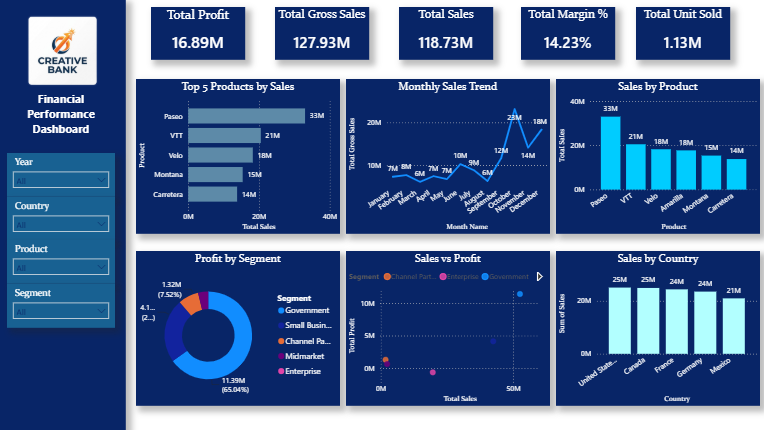

What the dashboard file says about the page in this screenshot:
{"tool":"powerbi","page":{"name":"Page 1","canvas":[1280,720],"ordinal":0},"visuals":[{"type":"textbox","box":[0,0,213.3,720],"z":0},{"type":"image","box":[41.4,22.9,131.4,125.7],"z":1},{"type":"cardVisual","title":"Total Profit","fields":{"Data":["Financial_Data.Total Profit"]},"box":[255,13.3,156.7,88.3],"z":2},{"type":"cardVisual","title":"Total Gross Sales","fields":{"Data":["Financial_Data.Total Gross Sales"]},"box":[461.7,13.3,156.7,88.3],"z":3},{"type":"cardVisual","title":"Total Sales","fields":{"Data":["Financial_Data.Total Sales"]},"box":[668.3,13.3,156.7,88.3],"z":4},{"type":"cardVisual","title":"Total Margin %","fields":{"Data":["Financial_Data.Profit Margin %"]},"box":[871.7,13.3,156.7,88.3],"z":5},{"type":"cardVisual","title":"Total Unit Sold","fields":{"Data":["Financial_Data.Total Units Sold"]},"box":[1063.3,13.3,156.7,88.3],"z":6},{"type":"barChart","title":"Top 5 Products by Sales","fields":{"Y":["Financial_Data.Total Sales"],"Category":["Financial_Data.Product"]},"box":[230,133.3,340,258.3],"z":7},{"type":"lineChart","title":"Monthly Sales Trend","fields":{"Y":["Financial_Data.Total Gross Sales"],"Category":["Financial_Data.Month Name"]},"box":[580,133.3,340,258.3],"z":8},{"type":"clusteredColumnChart","title":"Sales by Product","fields":{"Category":["Financial_Data.Product"],"Y":["Financial_Data.Total Sales"]},"box":[930,133.3,340,258.3],"z":9},{"type":"donutChart","title":"Profit by Segment","fields":{"Category":["Financial_Data.Segment"],"Y":["Financial_Data.Total Profit"]},"box":[230,420,340,258.3],"z":10},{"type":"scatterChart","title":"Sales vs Profit","fields":{"X":["Financial_Data.Total Sales"],"Y":["Financial_Data.Total Profit"],"Series":["Financial_Data.Segment"]},"box":[580,420,340,258.3],"z":11},{"type":"clusteredColumnChart","title":"Sales by Country","fields":{"Category":["Financial_Data.Country"],"Y":["Sum(Financial_Data.Sales)"]},"box":[930,420,340,258.3],"z":12},{"type":"slicer","fields":{"Values":["Financial_Data.Year"]},"box":[15.7,257.1,180,73.3],"z":13,"group":"g1"},{"type":"slicer","fields":{"Values":["Financial_Data.Country"]},"box":[15.7,330.4,180,73.3],"z":14,"group":"g1"},{"type":"slicer","fields":{"Values":["Financial_Data.Product"]},"box":[16.2,402.8,180,72.9],"z":15,"group":"g1"},{"type":"slicer","fields":{"Values":["Financial_Data.Segment"]},"box":[16.2,475.7,180,72.9],"z":16,"group":"g1"},{"type":"group","id":"g1","title":"Group 1","box":[15.7,257.1,180,291.4],"z":17},{"type":"textbox","box":[15.7,148.6,180,87.1],"z":18}]}

Visuals, with their boxes in screenshot pixels (x1, y1, x2, y2), scaled from the page's 1280x720 canvas onto the 764x430 screenshot:
textbox: rect(0, 0, 127, 429)
image: rect(25, 14, 103, 89)
"Total Profit" cardVisual: rect(152, 8, 246, 61)
"Total Gross Sales" cardVisual: rect(276, 8, 369, 61)
"Total Sales" cardVisual: rect(399, 8, 492, 61)
"Total Margin %" cardVisual: rect(520, 8, 614, 61)
"Total Unit Sold" cardVisual: rect(635, 8, 728, 61)
"Top 5 Products by Sales" barChart: rect(137, 80, 340, 234)
"Monthly Sales Trend" lineChart: rect(346, 80, 549, 234)
"Sales by Product" clusteredColumnChart: rect(555, 80, 758, 234)
"Profit by Segment" donutChart: rect(137, 251, 340, 405)
"Sales vs Profit" scatterChart: rect(346, 251, 549, 405)
"Sales by Country" clusteredColumnChart: rect(555, 251, 758, 405)
slicer - Financial_Data.Year: rect(9, 154, 117, 197)
slicer - Financial_Data.Country: rect(9, 197, 117, 241)
slicer - Financial_Data.Product: rect(10, 241, 117, 284)
slicer - Financial_Data.Segment: rect(10, 284, 117, 328)
"Group 1" group: rect(9, 154, 117, 328)
textbox: rect(9, 89, 117, 141)
